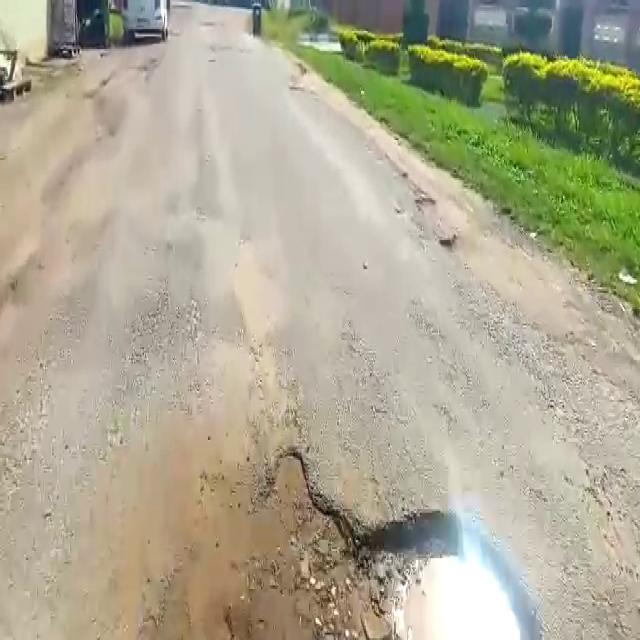Pothole: (156, 448, 543, 640)
